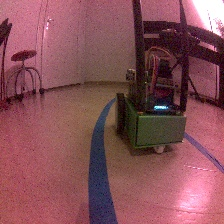rob: (113, 54, 187, 153)
